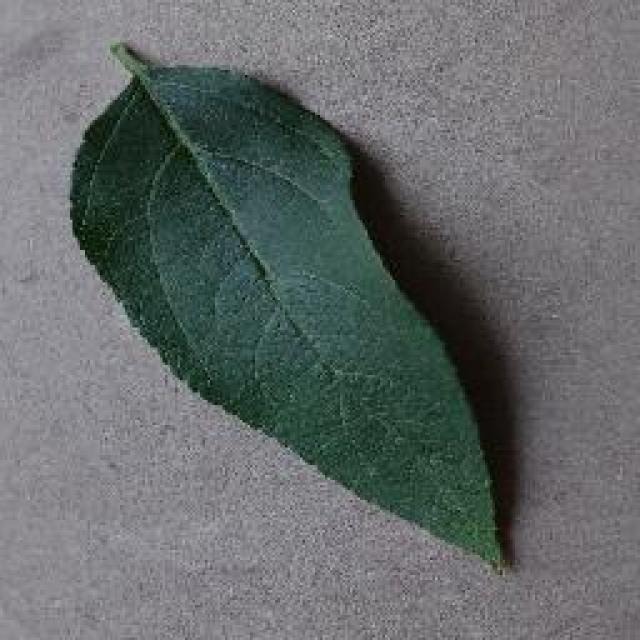apple healthy: (65, 35, 510, 575)
